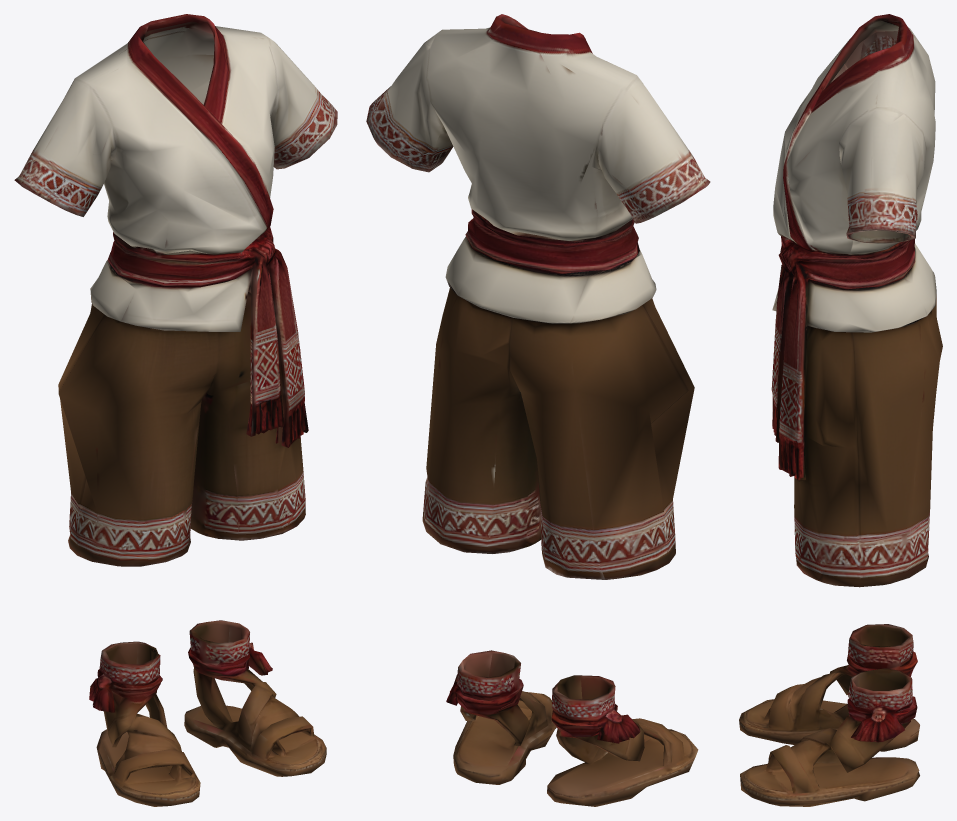
The model's file is outfit_female.glb.
3 renders of one model, left to right at view 1: azimuth 30°, elevation 25°; view 2: azimuth 150°, elevation 25°; view 3: azimuth 270°, elevation 25°, orthographic. The views are drawn at different scales.
Parts seen in each view (by area): view 1: outfit_female; view 2: outfit_female; view 3: outfit_female.
Part boxes in pixels (<box>): outfit_female: <box>14,14,337,806</box>; outfit_female: <box>366,14,710,806</box>; outfit_female: <box>739,14,942,806</box>.
Bounding box in the file's own units: 0.5265 × 1.15 × 0.2895.
1 material, 1 textured.
